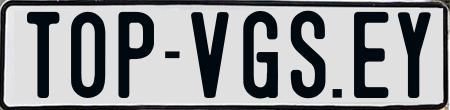0: (68, 12, 104, 99)
E: (351, 11, 389, 102)
G: (240, 8, 275, 96)
P: (115, 11, 156, 101)
S: (289, 8, 327, 97)
T: (24, 11, 57, 103)
V: (189, 9, 231, 99)
Y: (395, 9, 432, 96)
